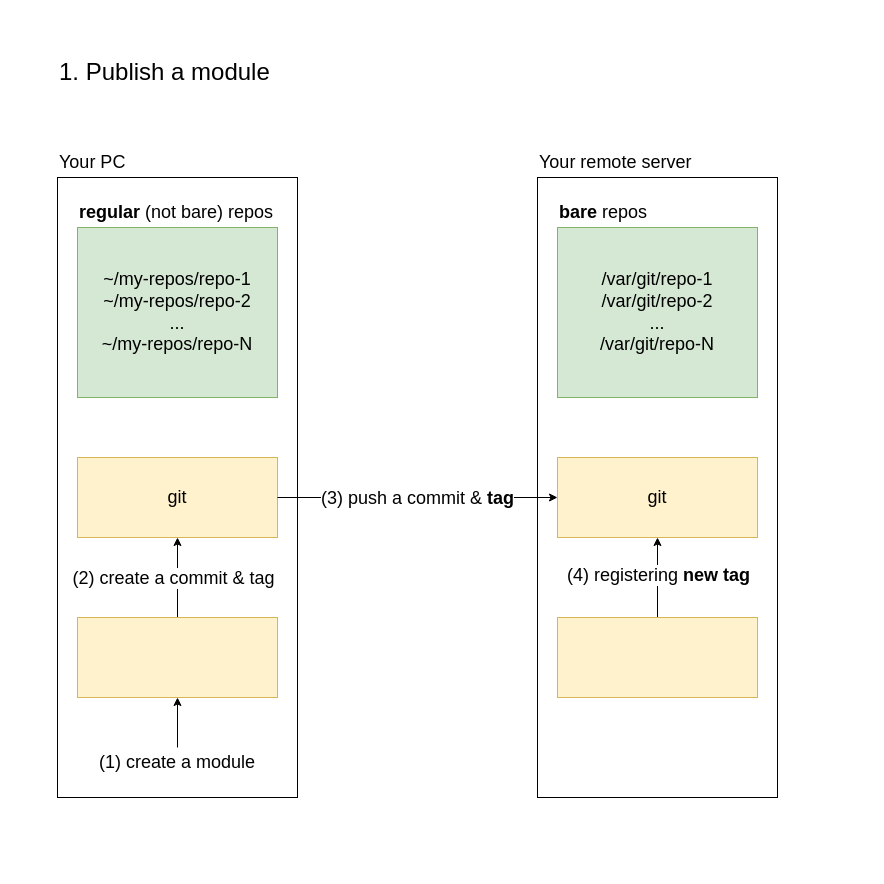
This 884x884 diagram has some shape labels left out. Here are the shapes that lost their labels. From the top down, the box of each, then its label:
(76, 616, 278, 698): golang
(556, 616, 758, 698): ezproxy
